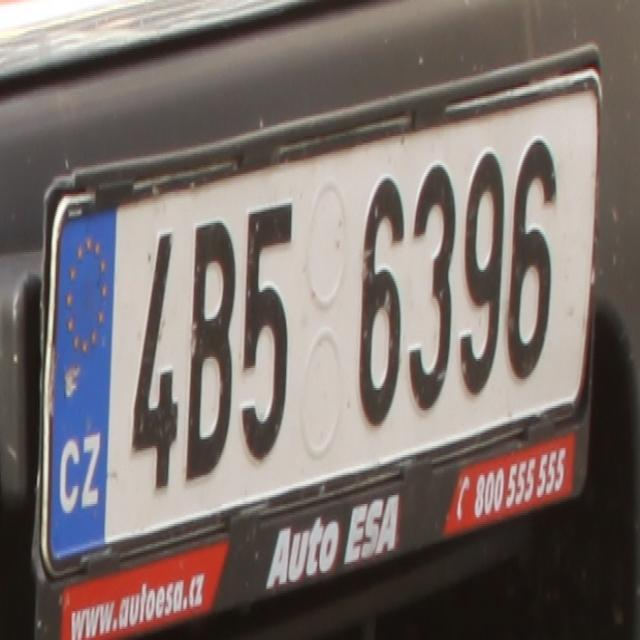3: (408, 158, 453, 412)
4: (126, 227, 182, 493)
5: (238, 196, 298, 471)
6: (508, 136, 556, 379), (359, 183, 398, 424)
9: (461, 149, 504, 406)
B: (186, 218, 233, 478)
